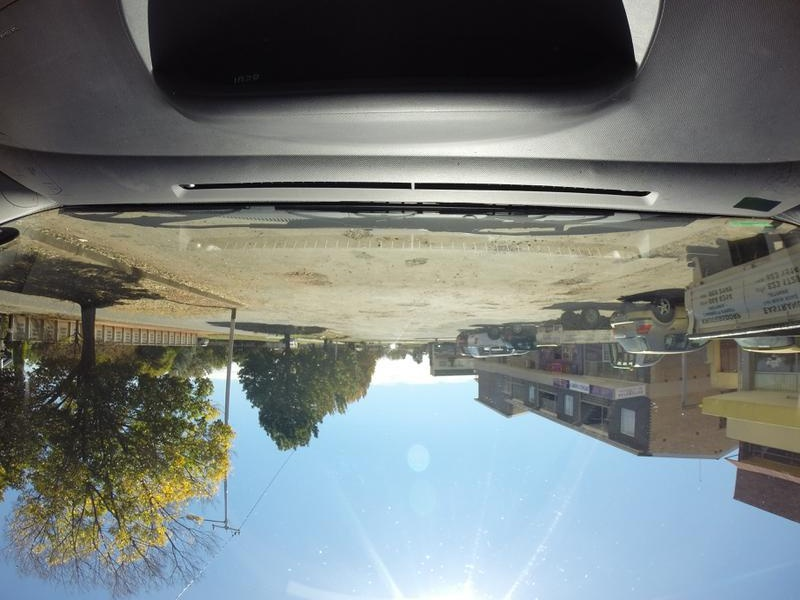pothole: (284, 268, 332, 284), (341, 229, 383, 243), (404, 254, 436, 270)
